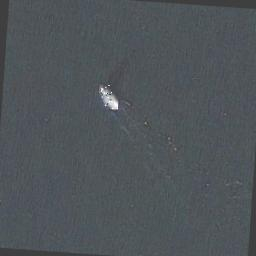boat: (97, 84, 119, 110)
